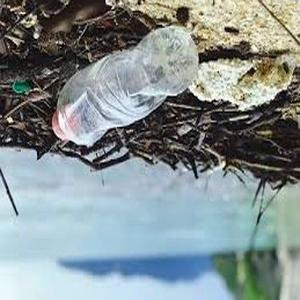Plastic: (52, 24, 199, 149)
